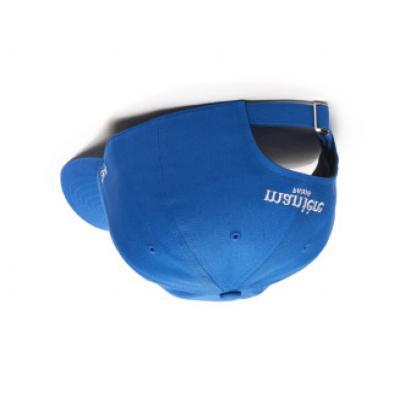cap: (44, 86, 350, 314)
